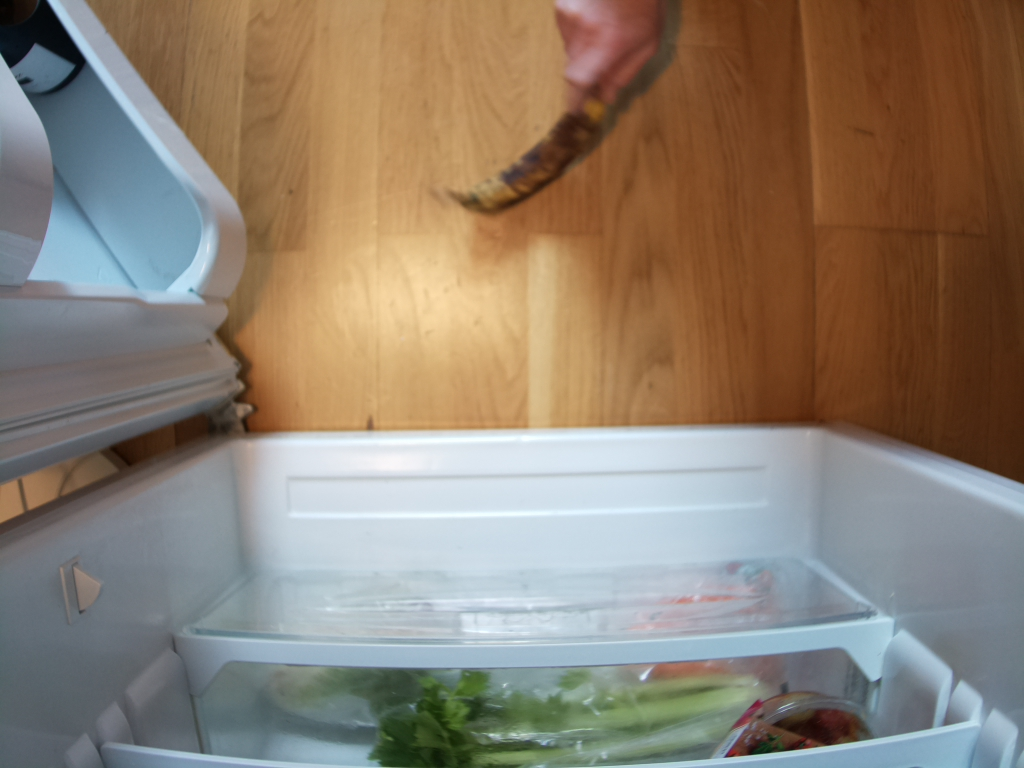banana-overripe: (429, 105, 598, 214)
